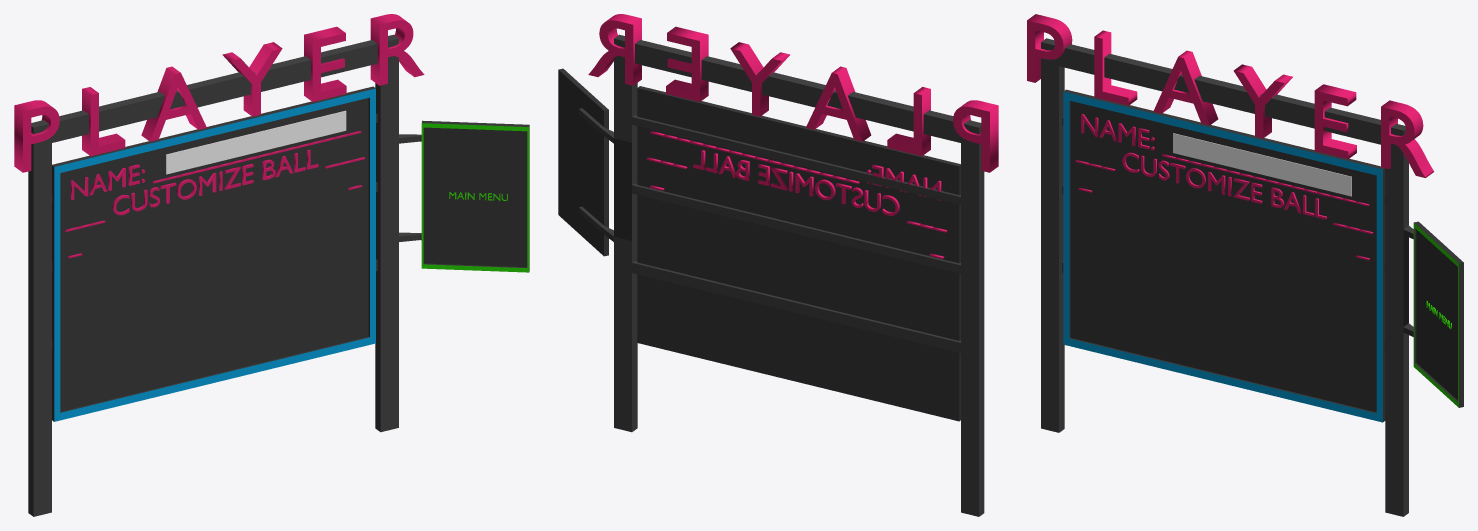
Rendered from menu_player.glb.
The picture shows the model from 3 angles, left to right: view 1: azimuth 30°, elevation 25°; view 2: azimuth 150°, elevation 25°; view 3: azimuth 330°, elevation 25°; orthographic projection.
Parts seen in each view (by area): view 1: leaderboard_board, sign_body, main_menu_board, text_player, text_player.001, player_name_name_input_block; view 2: leaderboard_board, sign_body, text_player, main_menu_board, text_player.001; view 3: leaderboard_board, sign_body, text_player, main_menu_board, text_player.001, player_name_name_input_block.
Boxes of the visible parts, x1,y1,x2,y2 form: leaderboard_board: [52, 86, 375, 421]; sign_body: [28, 34, 421, 516]; main_menu_board: [421, 120, 529, 272]; text_player: [14, 14, 424, 172]; text_player.001: [65, 131, 365, 258]; player_name_name_input_block: [166, 110, 346, 174]; leaderboard_board: [637, 86, 960, 421]; sign_body: [579, 34, 984, 516]; text_player: [588, 14, 998, 172]; main_menu_board: [558, 68, 608, 256]; text_player.001: [646, 131, 947, 258]; leaderboard_board: [1063, 89, 1385, 422]; sign_body: [1041, 38, 1413, 516]; text_player: [1027, 14, 1433, 177]; main_menu_board: [1413, 221, 1463, 407]; text_player.001: [1075, 114, 1373, 260]; player_name_name_input_block: [1173, 133, 1351, 196].
Bounding box in the file's own units: 49.94 × 41.3 × 8.1.
